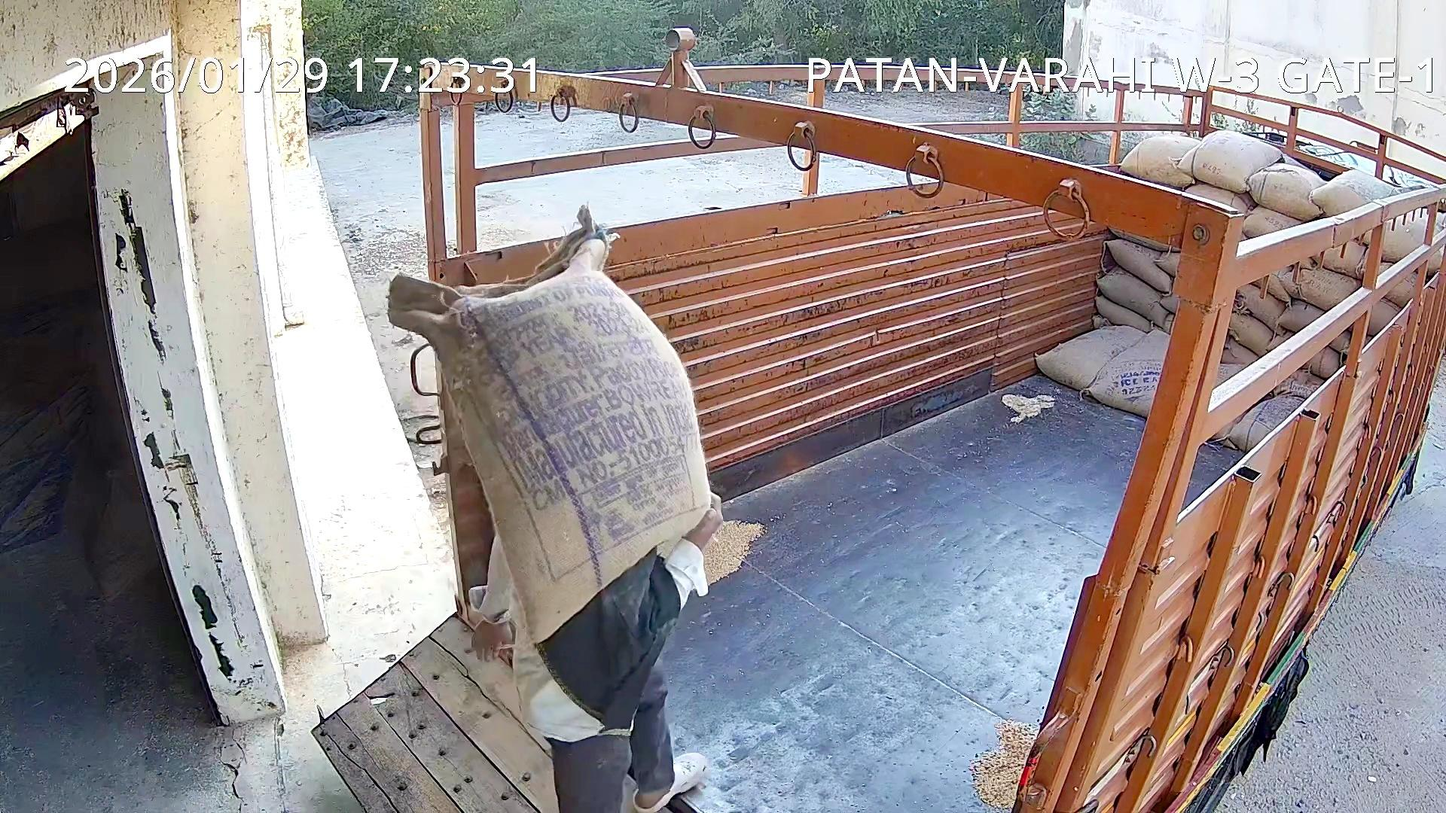Sack: (407, 263, 709, 637)
